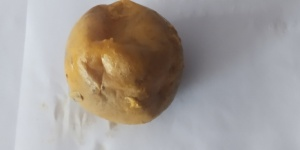BAD: (51, 1, 186, 128)
